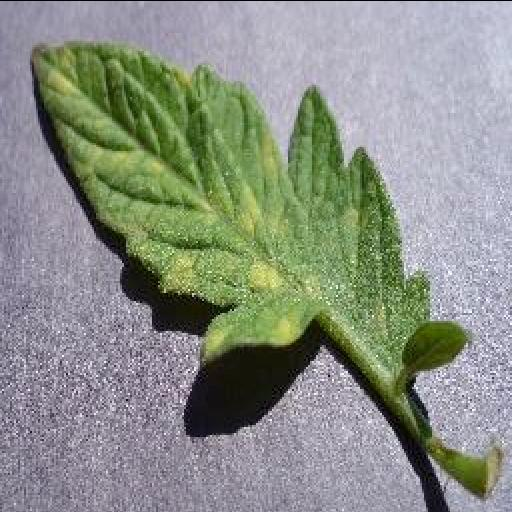disease_tomato: (30, 40, 430, 360)
